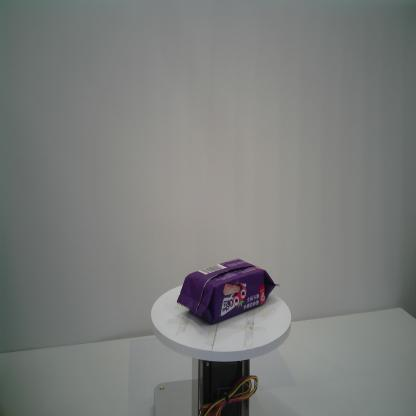Dessert: (175, 257, 282, 326)
